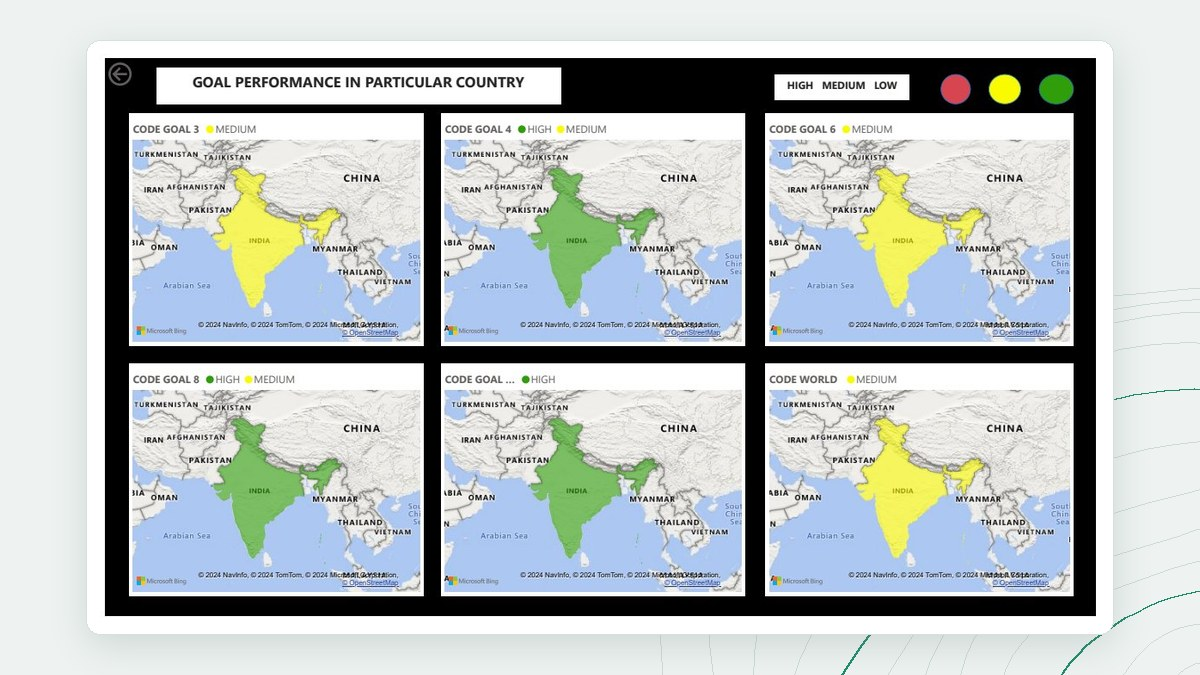

The dashboard page shown, as its layout file describes it:
{"tool":"powerbi","page":{"name":"OVERVIEW DETAILS","canvas":[1280,720],"ordinal":2},"visuals":[{"type":"actionButton","box":[0,0,100,40],"z":0},{"type":"filledMap","fields":{"Category":["RANKING out of 100.country"],"Series":["RANKING out of 100.CODE GOAL 3"]},"box":[31.8,71.2,380.1,299.8],"z":1000},{"type":"filledMap","fields":{"Series":["RANKING out of 100.CODE GOAL 8"],"Category":["RANKING out of 100.country"]},"box":[31.8,393.7,380.1,299.8],"z":2000},{"type":"filledMap","fields":{"Series":["RANKING out of 100.CODE GOAL 4"],"Category":["RANKING out of 100.country"]},"box":[434.6,71.2,393.7,299.8],"z":3000},{"type":"filledMap","fields":{"Series":["RANKING out of 100.CODE GOAL 13"],"Category":["RANKING out of 100.country"]},"box":[434.6,393.7,393.7,299.8],"z":4000},{"type":"filledMap","fields":{"Series":["RANKING out of 100.CODE GOAL 6"],"Category":["RANKING out of 100.country"]},"box":[854,71.2,398.2,299.8],"z":5000},{"type":"filledMap","fields":{"Series":["RANKING out of 100.CODE WORLD "],"Category":["RANKING out of 100.country"]},"box":[854,393.7,398.2,299.8],"z":6000},{"type":"textbox","box":[66.6,12.1,522.4,46.9],"z":7000},{"type":"shape","box":[1141.7,19.7,42.4,39.4],"z":8000},{"type":"shape","box":[1206.8,19.7,45.4,39.4],"z":9000},{"type":"shape","box":[1079.6,19.7,39.4,39.4],"z":10000},{"type":"textbox","box":[866.1,19.7,174.1,33.3],"z":11000}]}

Visuals, with their boxes in screenshot pixels (x1, y1, x2, y2), scaled from the page's 1280x720 canvas onto the 1200x675 screenshot:
actionButton: l=0, t=0, r=94, b=38
filledMap - RANKING out of 100.country x RANKING out of 100.CODE GOAL 3: l=30, t=67, r=386, b=348
filledMap - RANKING out of 100.CODE GOAL 8 x RANKING out of 100.country: l=30, t=369, r=386, b=650
filledMap - RANKING out of 100.CODE GOAL 4 x RANKING out of 100.country: l=407, t=67, r=777, b=348
filledMap - RANKING out of 100.CODE GOAL 13 x RANKING out of 100.country: l=407, t=369, r=777, b=650
filledMap - RANKING out of 100.CODE GOAL 6 x RANKING out of 100.country: l=801, t=67, r=1174, b=348
filledMap - RANKING out of 100.CODE WORLD  x RANKING out of 100.country: l=801, t=369, r=1174, b=650
textbox: l=62, t=11, r=552, b=55
shape: l=1070, t=18, r=1110, b=55
shape: l=1131, t=18, r=1174, b=55
shape: l=1012, t=18, r=1049, b=55
textbox: l=812, t=18, r=975, b=50
